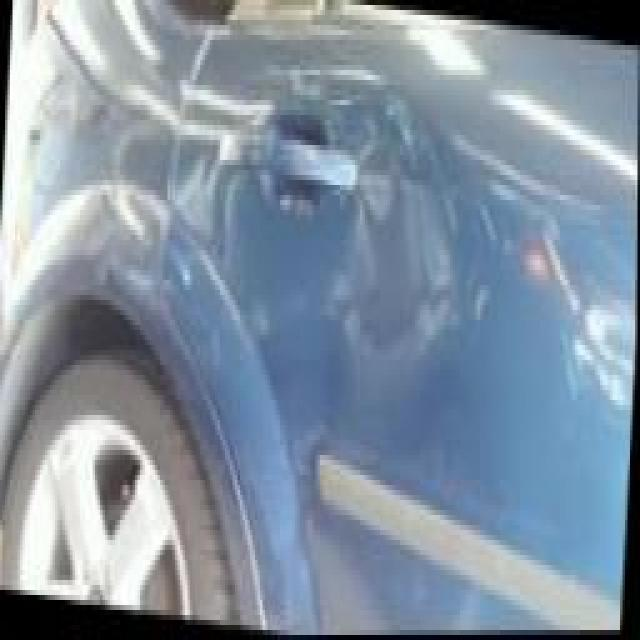Door: (324, 80, 474, 385)
